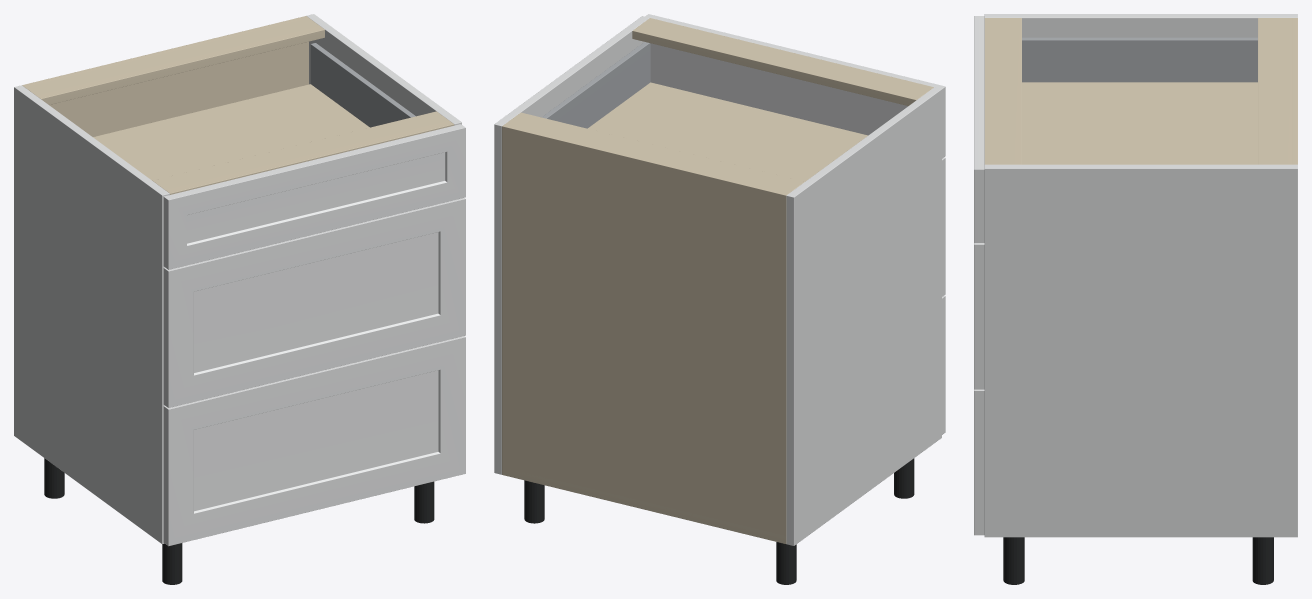
File: oppein-ply-wss-3db27.glb
The picture shows the model from 3 angles, left to right: view 1: azimuth 30°, elevation 25°; view 2: azimuth 150°, elevation 25°; view 3: azimuth 270°, elevation 25°; orthographic projection. The views are drawn at different scales.
Parts seen in each view (by area): view 1: Cabinet side, Drawer front, Drawer front.001, Drawer front.002, Drawer floor.002, Cabinet back, Top support rail, Top support rail.001, Drawer side.005, Cabinet side.001, Adjustable foot.001, Adjustable foot.003 (+1 smaller); view 2: Cabinet back, Cabinet side, Drawer floor.002, Drawer front.002, Top support rail.001, Cabinet side.001, Top support rail, Drawer side.005, Cabinet bottom, Adjustable foot, Adjustable foot.002, Adjustable foot.001; view 3: Cabinet side.001, Drawer floor.002, Drawer side.004, Cabinet side, Top support rail.001, Top support rail, Drawer front.002, Drawer front, Drawer front.001, Adjustable foot.003, Adjustable foot.002, Cabinet back.
Part boxes in pixels (left/top/right/bottom): Cabinet side: left=14, top=85, right=169, bottom=544; Drawer front: left=163, top=336, right=465, bottom=546; Drawer front.001: left=163, top=198, right=465, bottom=407; Drawer front.002: left=163, top=124, right=465, bottom=269; Drawer floor.002: left=93, top=84, right=369, bottom=180; Cabinet back: left=22, top=16, right=308, bottom=136; Top support rail: left=25, top=18, right=324, bottom=104; Top support rail.001: left=152, top=111, right=454, bottom=194; Drawer side.005: left=310, top=43, right=415, bottom=127; Cabinet side.001: left=306, top=14, right=461, bottom=125; Adjustable foot.001: left=162, top=543, right=182, bottom=584; Adjustable foot.003: left=414, top=481, right=434, bottom=523; Cabinet back: left=502, top=124, right=788, bottom=543; Cabinet side: left=786, top=87, right=941, bottom=545; Drawer floor.002: left=588, top=82, right=867, bottom=181; Drawer front.002: left=645, top=14, right=945, bottom=158; Top support rail.001: left=632, top=18, right=933, bottom=105; Cabinet side.001: left=494, top=16, right=649, bottom=474; Top support rail: left=505, top=112, right=804, bottom=193; Drawer side.005: left=541, top=42, right=650, bottom=128; Cabinet bottom: left=502, top=469, right=786, bottom=543; Adjustable foot: left=776, top=542, right=796, bottom=584; Adjustable foot.002: left=524, top=480, right=544, bottom=523; Adjustable foot.001: left=894, top=458, right=914, bottom=498; Cabinet side.001: left=984, top=164, right=1297, bottom=537; Drawer floor.002: left=1022, top=82, right=1257, bottom=164; Drawer side.004: left=1022, top=37, right=1257, bottom=82; Cabinet side: left=984, top=14, right=1297, bottom=37; Top support rail.001: left=984, top=18, right=1021, bottom=164; Top support rail: left=1258, top=18, right=1291, bottom=164; Drawer front.002: left=974, top=16, right=984, bottom=242; Drawer front: left=974, top=389, right=984, bottom=535; Drawer front.001: left=974, top=243, right=984, bottom=389; Adjustable foot.003: left=1003, top=537, right=1024, bottom=584; Adjustable foot.002: left=1252, top=537, right=1273, bottom=584; Cabinet back: left=1292, top=18, right=1297, bottom=164.
Bounding box in the file's own units: 0.6858 × 0.8763 × 0.6064.
